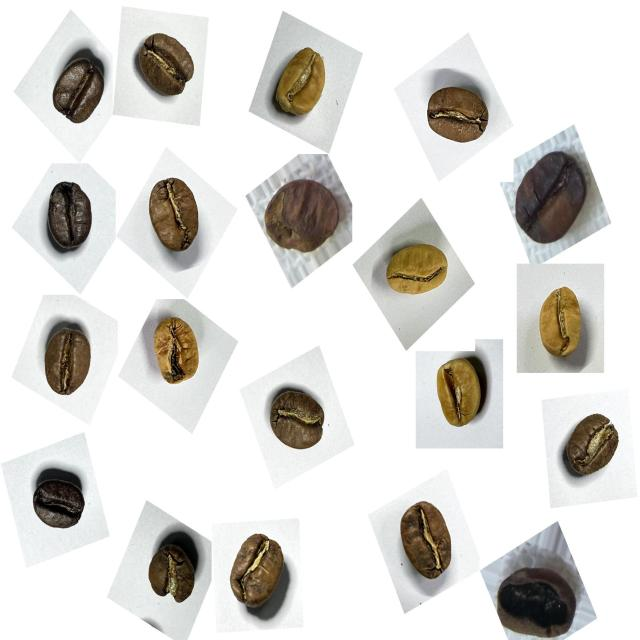bad: (505, 140, 599, 258), (254, 167, 347, 267), (491, 553, 588, 640)
dark: (43, 42, 115, 135), (37, 170, 107, 263), (24, 462, 96, 548)
light: (425, 348, 499, 440), (266, 36, 338, 130), (528, 278, 597, 376), (379, 230, 459, 312), (145, 310, 214, 401)
medium: (386, 490, 467, 594), (218, 521, 298, 625), (137, 168, 215, 266), (417, 75, 498, 160), (128, 22, 204, 110), (556, 404, 630, 492), (135, 527, 206, 618), (260, 379, 335, 464), (33, 318, 104, 407)
